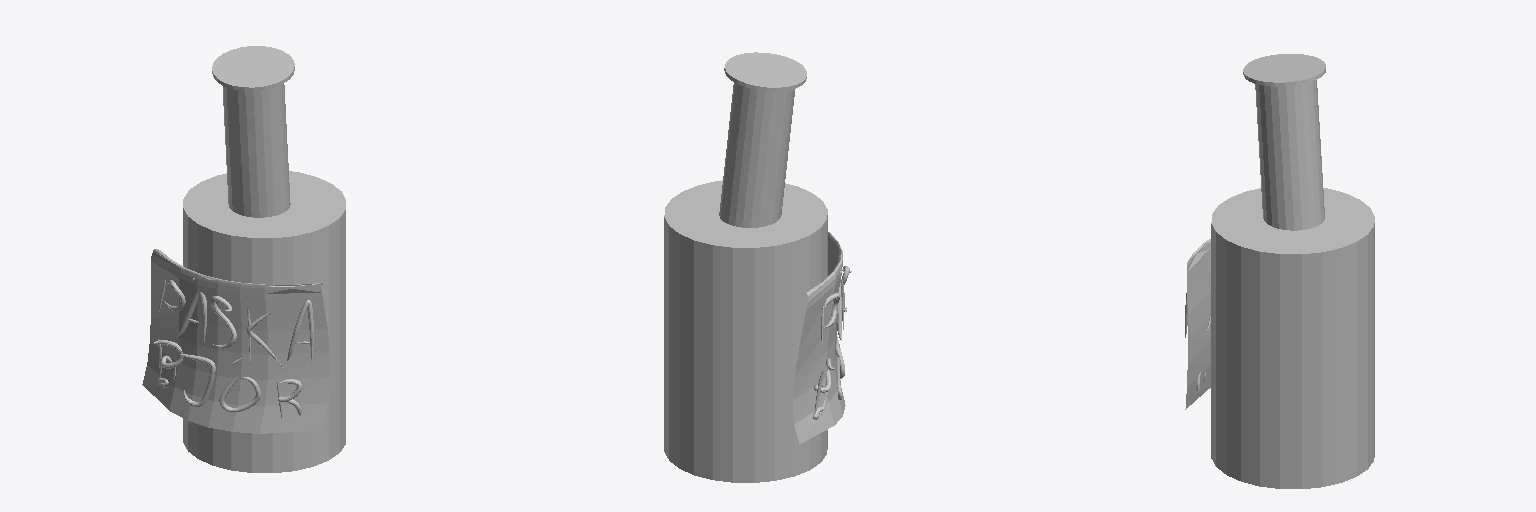
File: bjor.obj
The picture shows the model from 3 angles: view 1: azimuth 30°, elevation 25°; view 2: azimuth 150°, elevation 25°; view 3: azimuth 270°, elevation 25°; orthographic projection.
Parts seen in each view (by area): view 1: p.0036, n.0042, p.0040, p.0041, s.0053; view 2: p.0036, p.0040, n.0042, p.0041; view 3: p.0036, p.0040, n.0042, p.0041.
Part boxes in pixels (bbox=[...]): p.0036: bbox=[183, 171, 345, 472]; n.0042: bbox=[142, 249, 329, 433]; p.0040: bbox=[222, 84, 290, 217]; p.0041: bbox=[212, 46, 294, 90]; s.0053: bbox=[287, 300, 313, 366]; p.0036: bbox=[664, 180, 827, 482]; p.0040: bbox=[719, 83, 794, 227]; n.0042: bbox=[793, 232, 845, 443]; p.0041: bbox=[724, 52, 806, 91]; p.0036: bbox=[1211, 188, 1374, 488]; p.0040: bbox=[1255, 80, 1324, 230]; n.0042: bbox=[1185, 239, 1210, 409]; p.0041: bbox=[1243, 54, 1325, 86].
Size of the model in its own units: 4.93 by 10.47 by 4.71.